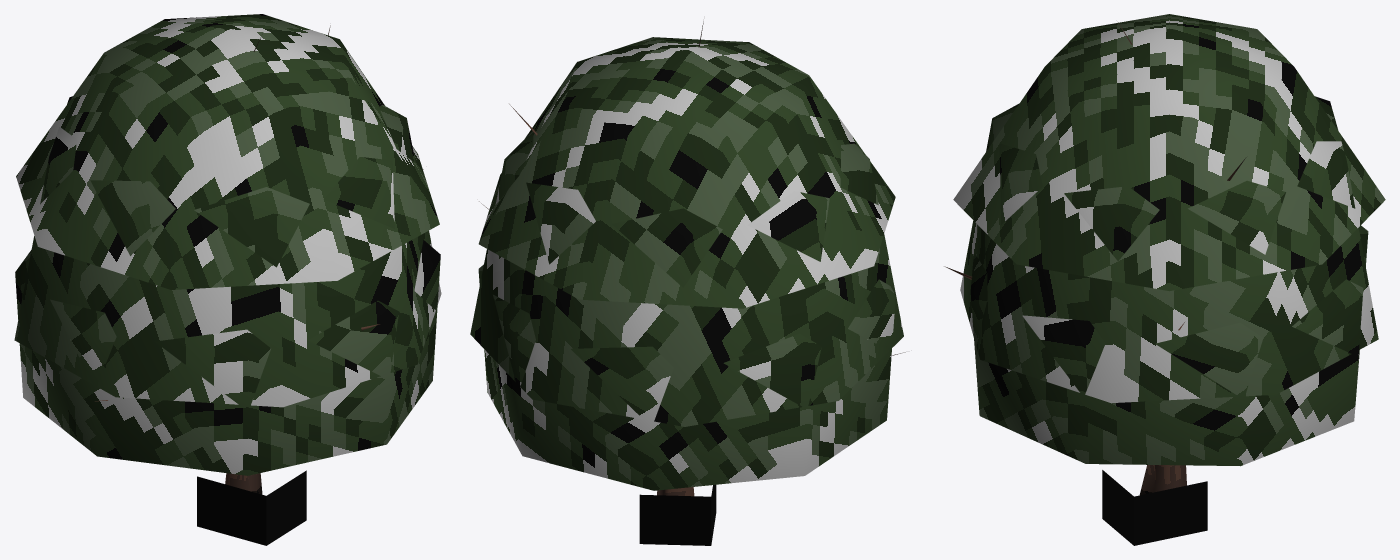
File: env_tree_medium.glb
The picture shows the model from 3 angles, left to right: view 1: azimuth 30°, elevation 25°; view 2: azimuth 150°, elevation 25°; view 3: azimuth 270°, elevation 25°; orthographic projection.
Parts seen in each view (by area): view 1: env_tree_medium; view 2: env_tree_medium; view 3: env_tree_medium.
Part boxes in pixels (x1,y1,x2,y2): env_tree_medium: [14, 14, 441, 545]; env_tree_medium: [470, 21, 905, 545]; env_tree_medium: [944, 14, 1385, 545].
Size of the model in its own units: 0.0149 by 0.0183 by 0.0146.
3 materials, 3 textured.
